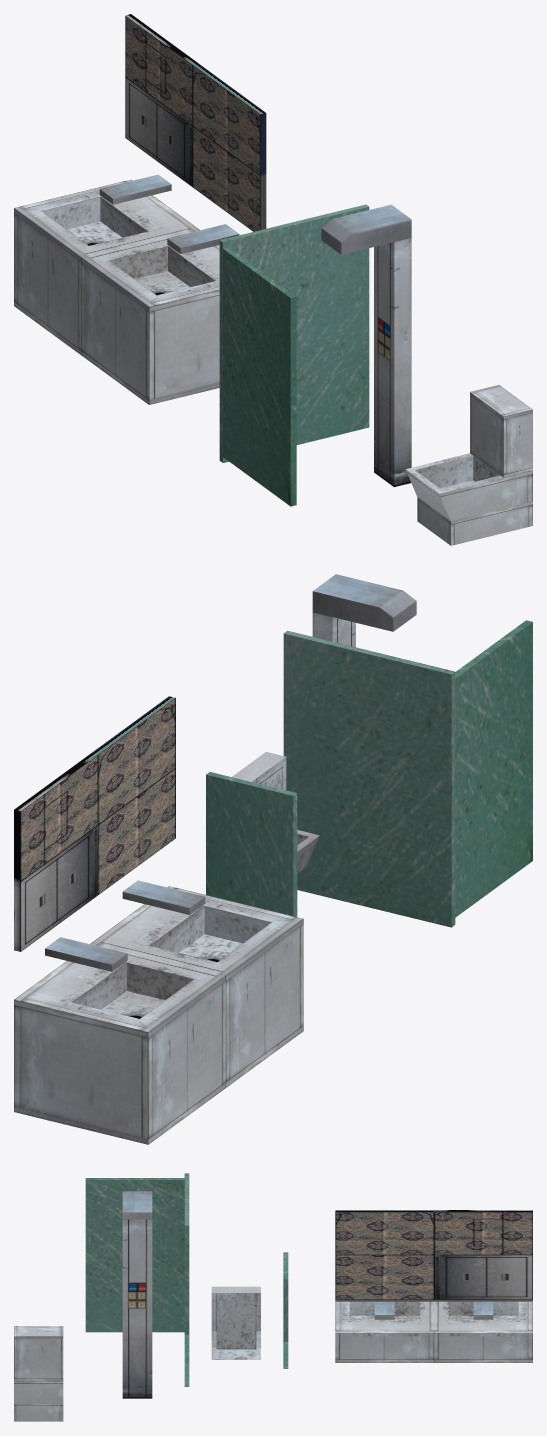
The model's file is Bathroom.fbx.
3 renders of one model, top to bottom at view 1: azimuth 30°, elevation 25°; view 2: azimuth 150°, elevation 25°; view 3: azimuth 270°, elevation 25°, orthographic. The views are drawn at different scales.
Visible parts, largest first — view 1: Sink, StallDivisory, Mirror, StallDoor, Toilet, Shower; view 2: Sink, StallDivisory, Mirror, StallDoor, SmallBathroomDivisory, Shower, Urinal; view 3: Mirror, Sink, StallDoor, Shower, Toilet, Urinal, StallDivisory, SmallBathroomDivisory.
Boxes of the visible parts, box(x1,y1,x2,y2) form: Sink: box(14, 174, 239, 404); StallDivisory: box(219, 204, 369, 462); Mirror: box(125, 14, 266, 231); StallDoor: box(223, 247, 296, 506); Toilet: box(405, 385, 532, 545); Shower: box(321, 204, 411, 487); Sink: box(14, 880, 303, 1144); StallDivisory: box(283, 630, 455, 927); Mirror: box(14, 696, 175, 951); StallDoor: box(455, 620, 532, 917); SmallBathroomDivisory: box(206, 772, 297, 916); Shower: box(312, 574, 416, 647); Urinal: box(232, 752, 319, 873); Mirror: box(335, 1210, 532, 1301); Sink: box(335, 1301, 532, 1362); StallDoor: box(85, 1178, 184, 1332); Shower: box(122, 1191, 152, 1398); Toilet: box(14, 1326, 63, 1421); Urinal: box(211, 1286, 260, 1359); StallDivisory: box(184, 1173, 189, 1386); SmallBathroomDivisory: box(283, 1252, 288, 1368).
Bounding box in the file's own units: 330 × 430 × 1050.
